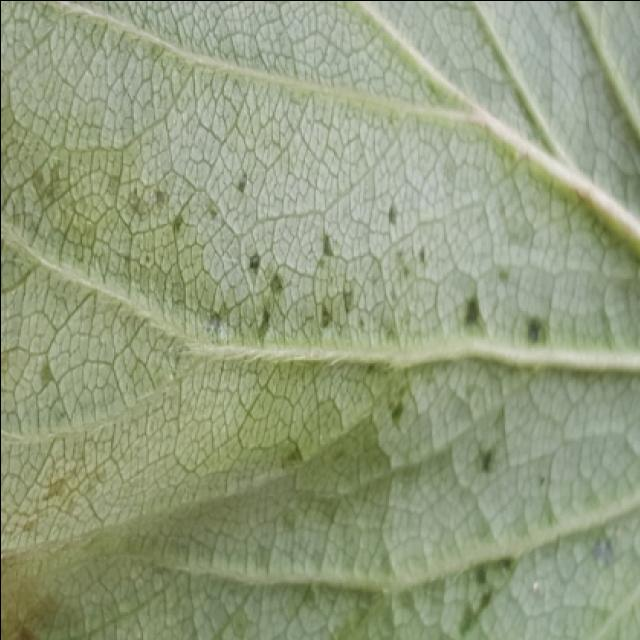Angular Leafspot: (2, 150, 558, 638)
